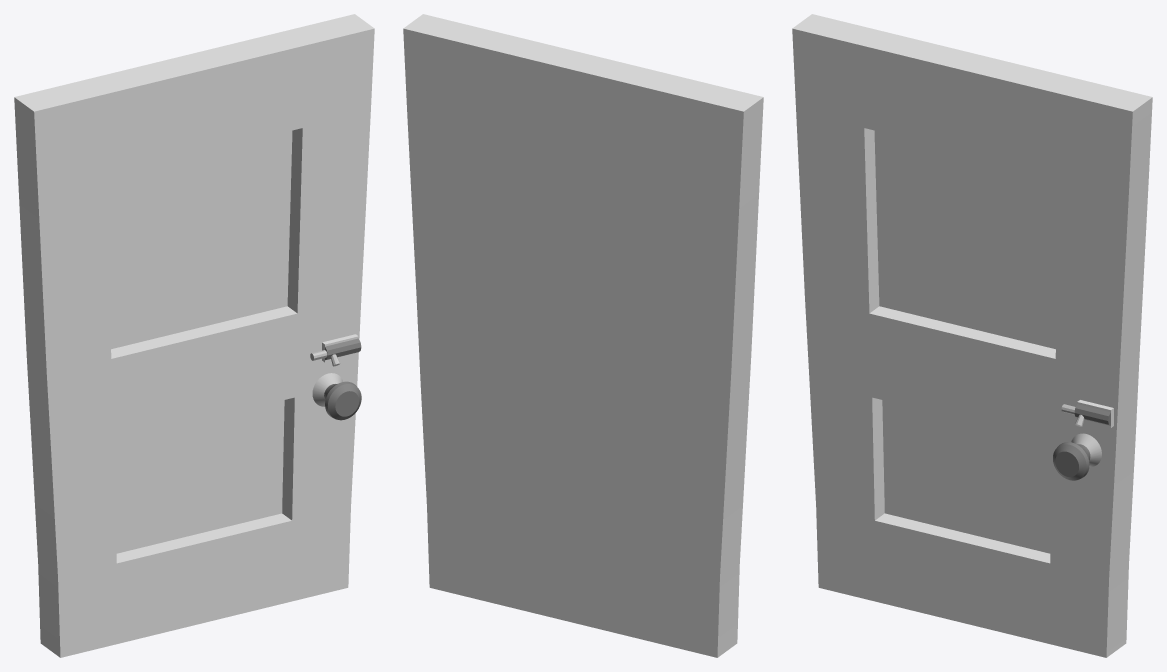
The model's file is Door to Vanu.fbx.
3 views of the same model, side by side, from view 1: azimuth 30°, elevation 25°; view 2: azimuth 150°, elevation 25°; view 3: azimuth 330°, elevation 25° (orthographic).
Visible parts, largest first — view 1: Door to Vanu; view 2: Door to Vanu; view 3: Door to Vanu.
Boxes of the visible parts, x1,y1,x2,y2 form: Door to Vanu: (14, 14, 374, 657); Door to Vanu: (403, 14, 763, 657); Door to Vanu: (792, 14, 1152, 657).
Size of the model in its own units: 239 by 371 by 47.43.
